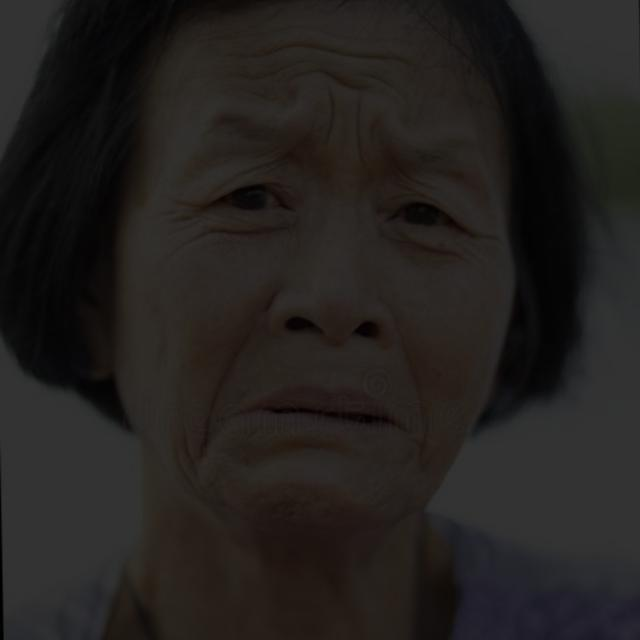Sad: (66, 36, 577, 564)
